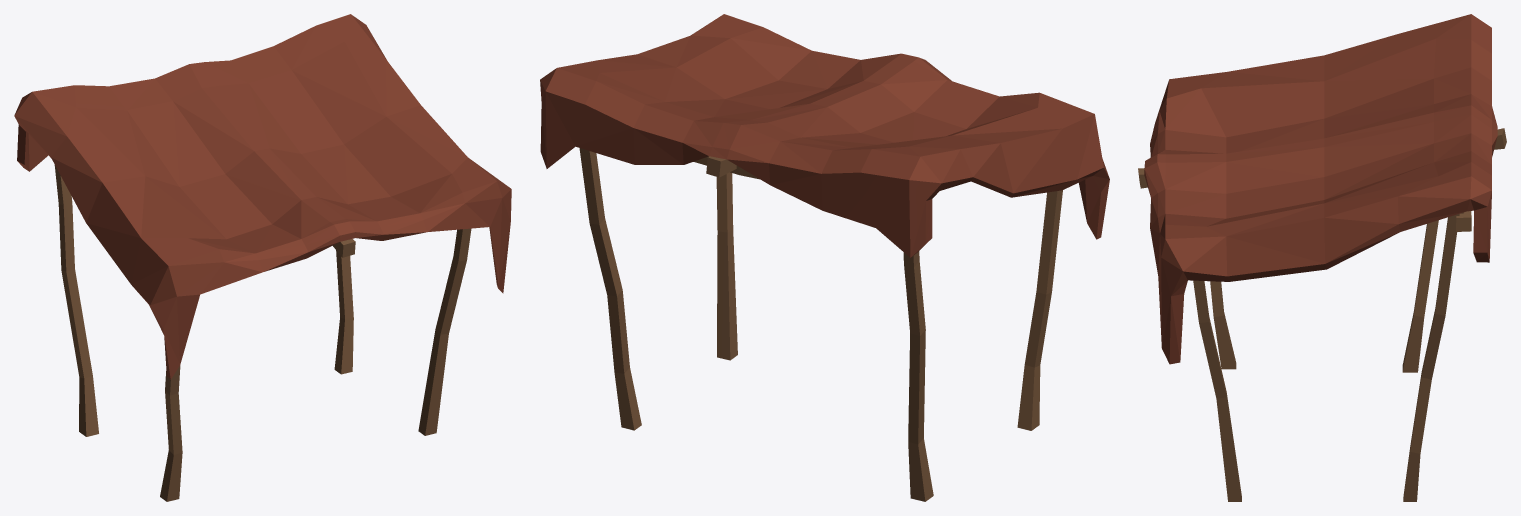
Rendered from SM_Bld_Stall_Cover_03.gltf.
The picture shows the model from 3 angles, left to right: view 1: azimuth 30°, elevation 25°; view 2: azimuth 150°, elevation 25°; view 3: azimuth 270°, elevation 25°; orthographic projection. The views are drawn at different scales.
Visible parts, largest first — view 1: SM_Bld_Stall_Cover_03; view 2: SM_Bld_Stall_Cover_03; view 3: SM_Bld_Stall_Cover_03.
Boxes of the visible parts, box(x1,y1,x2,y2) form: SM_Bld_Stall_Cover_03: box(14, 14, 511, 501); SM_Bld_Stall_Cover_03: box(540, 14, 1109, 501); SM_Bld_Stall_Cover_03: box(1138, 14, 1506, 501).
Size of the model in its own units: 3.54 by 3.05 by 2.99.
1 material, 1 textured.
